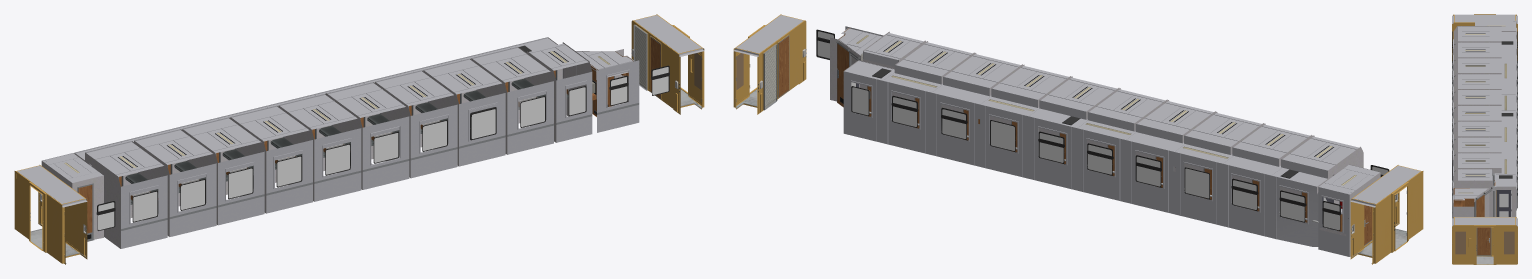
The model's file is vagon_in.fbx.
3 renders of one model, left to right at view 1: azimuth 30°, elevation 25°; view 2: azimuth 150°, elevation 25°; view 3: azimuth 270°, elevation 25°, orthographic. The views are drawn at different scales.
Parts seen in each view (by area): view 1: Vagon_body_inner_MainCorridor_01, Vagon_body_inner_MainCorridor_01.001, Vagon_Windows_01.001, Vagon_body_inner_MainCorridor_01.002; view 2: Vagon_body_inner_MainCorridor_01, Vagon_Windows_01.001, Vagon_body_inner_MainCorridor_01.001, Vagon_body_inner_MainCorridor_01.002; view 3: Vagon_body_inner_MainCorridor_01, Vagon_body_inner_MainCorridor_01.001, Vagon_body_inner_MainCorridor_01.002.
Part boxes in pixels (box(x1,y1,x2,y2)): Vagon_body_inner_MainCorridor_01: box(14, 14, 704, 264); Vagon_body_inner_MainCorridor_01.001: box(41, 37, 628, 248); Vagon_Windows_01.001: box(133, 77, 627, 221); Vagon_body_inner_MainCorridor_01.002: box(98, 67, 668, 230); Vagon_body_inner_MainCorridor_01: box(733, 14, 1423, 264); Vagon_Windows_01.001: box(852, 87, 1339, 230); Vagon_body_inner_MainCorridor_01.001: box(830, 31, 1380, 256); Vagon_body_inner_MainCorridor_01.002: box(817, 31, 1388, 174); Vagon_body_inner_MainCorridor_01: box(1452, 14, 1517, 264); Vagon_body_inner_MainCorridor_01.001: box(1453, 21, 1516, 216); Vagon_body_inner_MainCorridor_01.002: box(1499, 194, 1508, 216).
Bounding box in the file's own units: 23.7 × 2.52 × 3.11.
